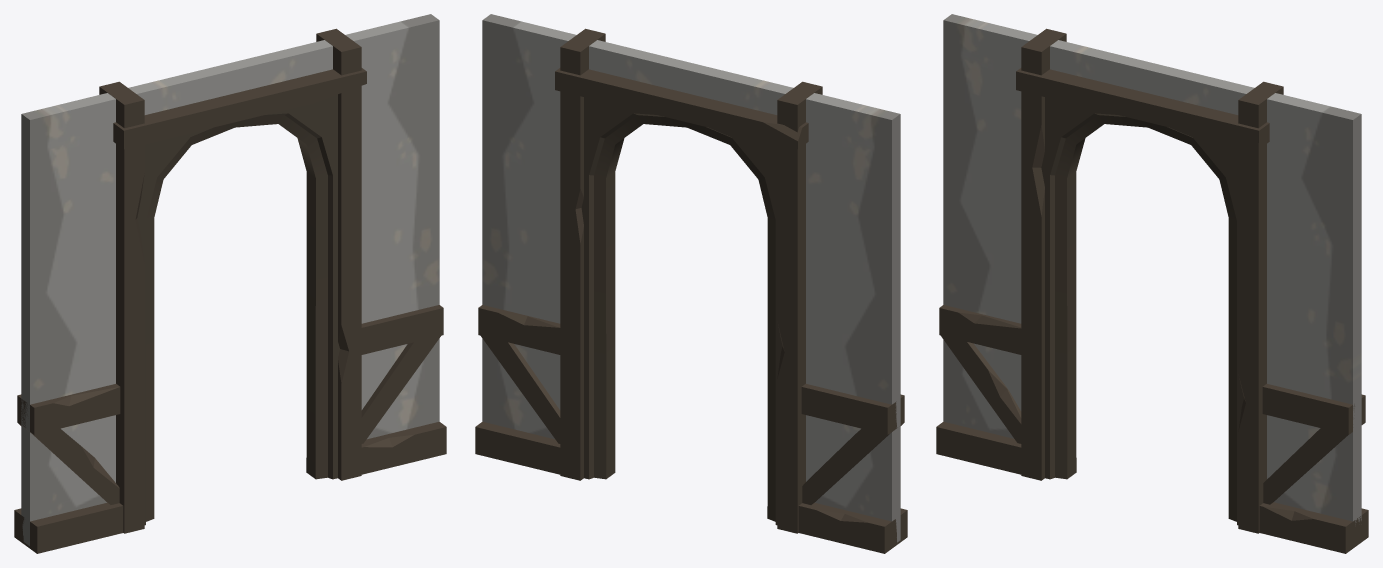
The model's file is kingdom_SM_Bld_House_Wall_Door_01.gltf.
3 renders of one model, left to right at view 1: azimuth 30°, elevation 25°; view 2: azimuth 150°, elevation 25°; view 3: azimuth 330°, elevation 25°, orthographic.
Parts seen in each view (by area): view 1: SM_Bld_House_Wall_Door_01; view 2: SM_Bld_House_Wall_Door_01; view 3: SM_Bld_House_Wall_Door_01.
Boxes of the visible parts, box(x1,y1,x2,y2) form: SM_Bld_House_Wall_Door_01: box(14, 14, 446, 553); SM_Bld_House_Wall_Door_01: box(475, 14, 907, 553); SM_Bld_House_Wall_Door_01: box(936, 14, 1368, 553).
Size of the model in its own units: 2.5 by 2.5 by 0.3148.
Materials: 1 (1 with a texture image).
